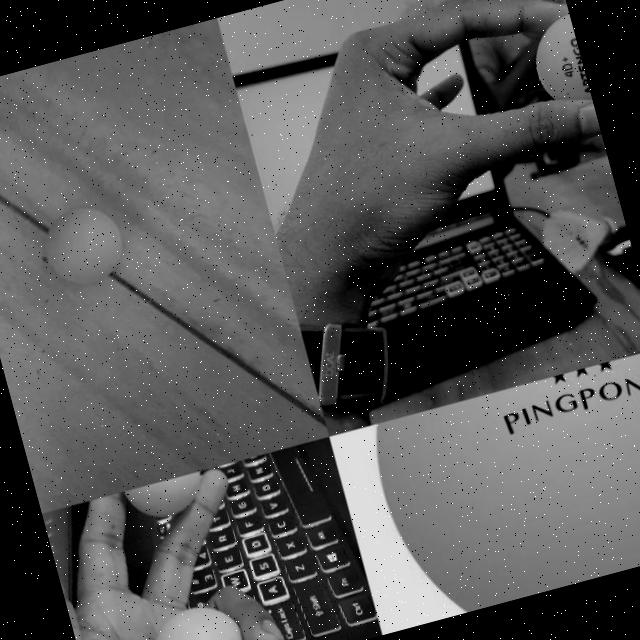ping-pong-ball: (362, 346, 640, 625), (32, 195, 126, 288), (524, 12, 594, 120), (139, 595, 248, 640), (121, 470, 208, 523)
